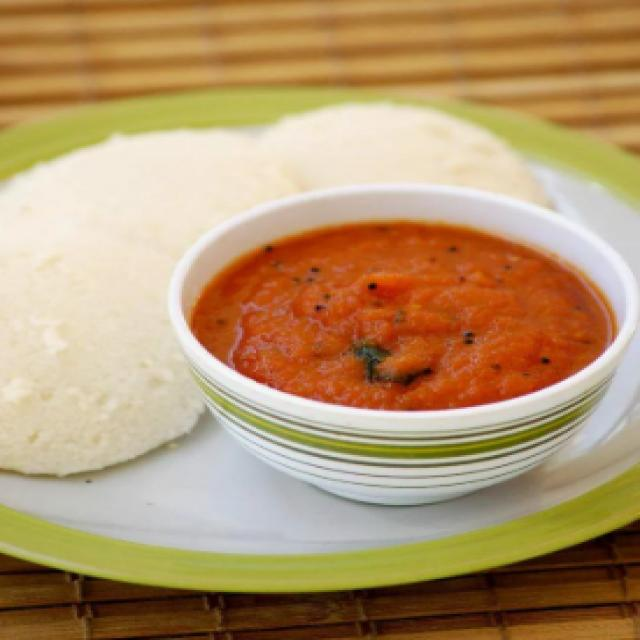tomato chutney: (169, 217, 572, 434)
